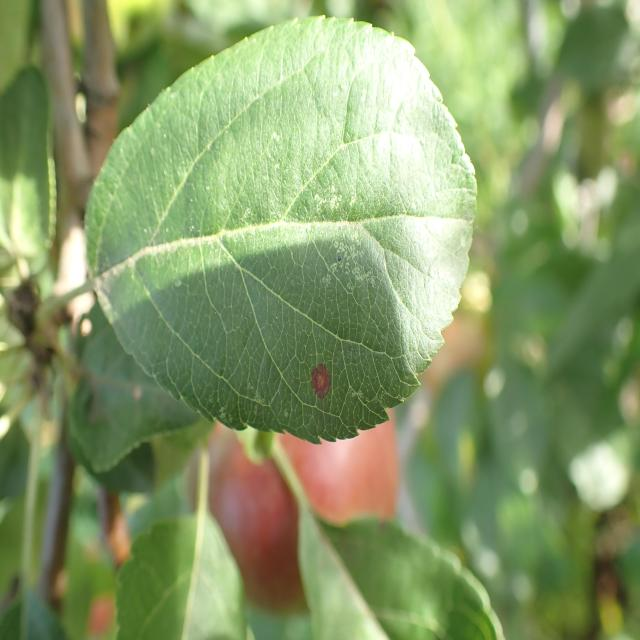Black Rot: (300, 352, 336, 403)
